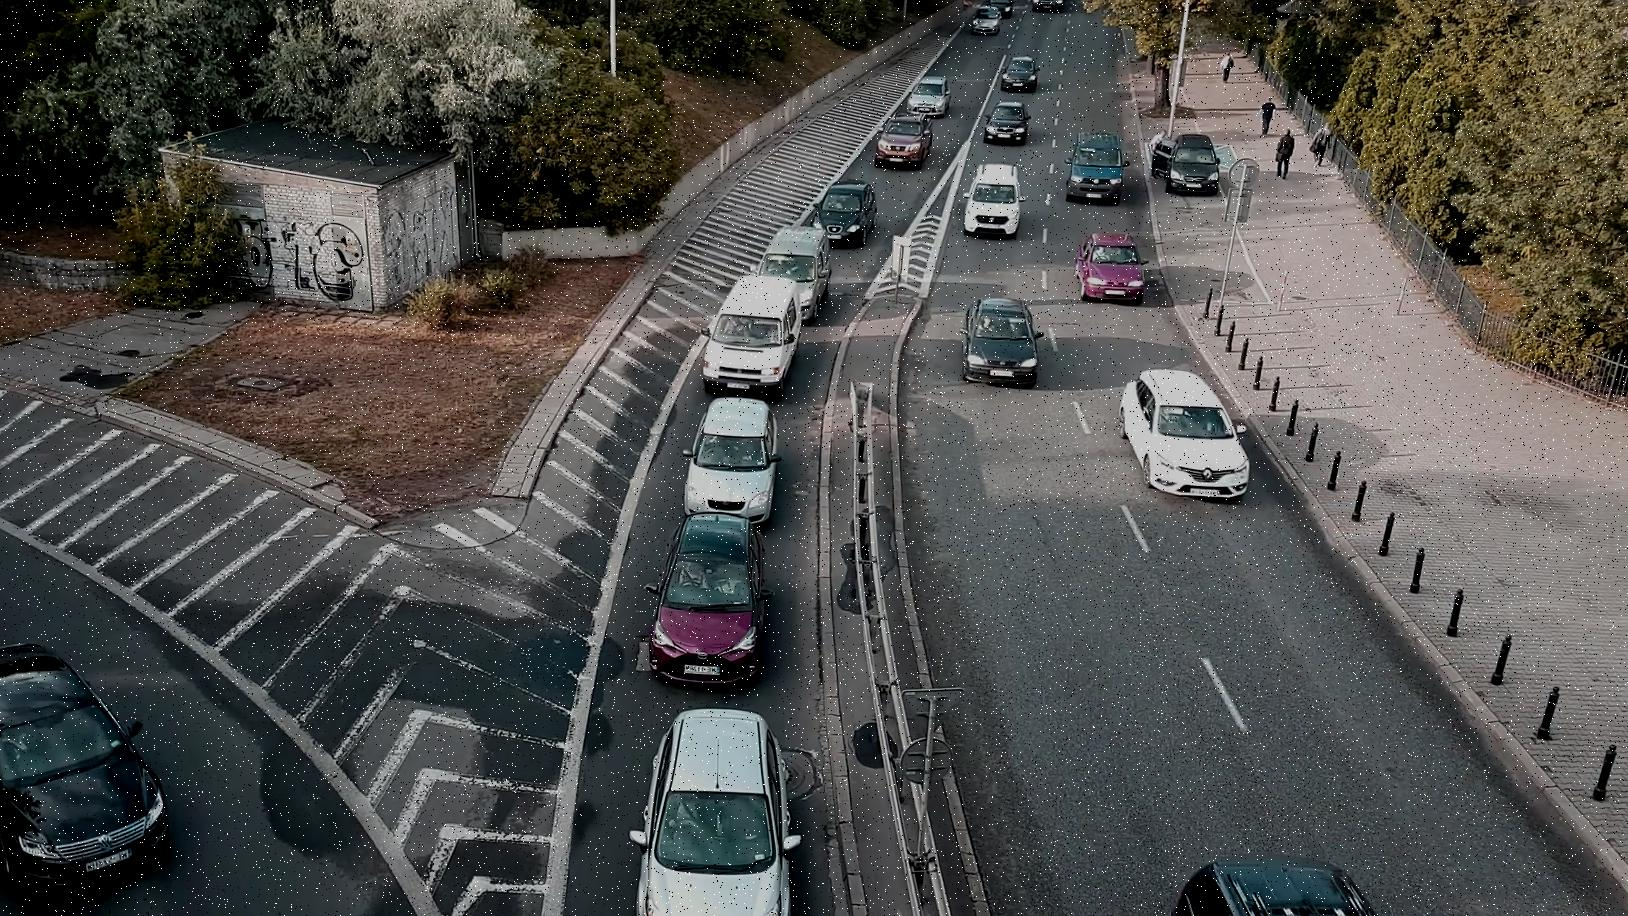car: (0, 646, 178, 896), (630, 702, 811, 916), (1152, 830, 1470, 916), (642, 513, 770, 691), (1118, 366, 1249, 502), (694, 271, 807, 394), (684, 389, 783, 523), (964, 298, 1037, 380), (759, 221, 834, 292), (1076, 228, 1146, 299), (964, 154, 1022, 236), (1070, 121, 1126, 202), (813, 174, 879, 243), (1155, 130, 1229, 189), (873, 110, 937, 163), (985, 101, 1033, 147)
